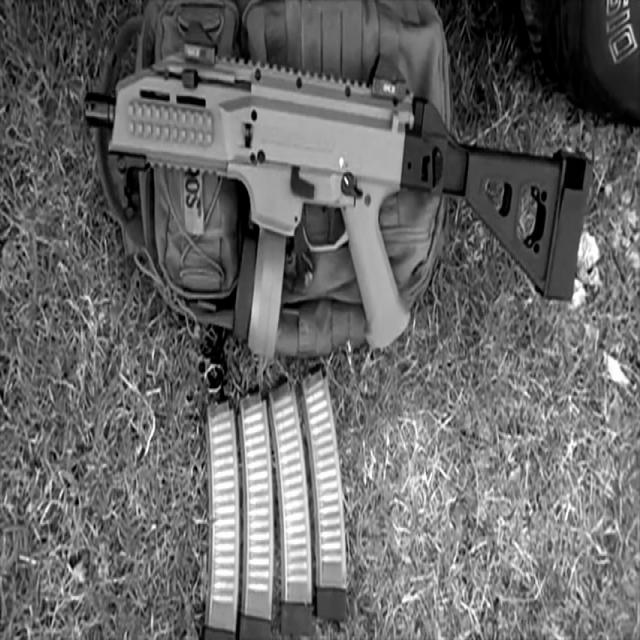Sub-machine-gun: (60, 0, 608, 368)
